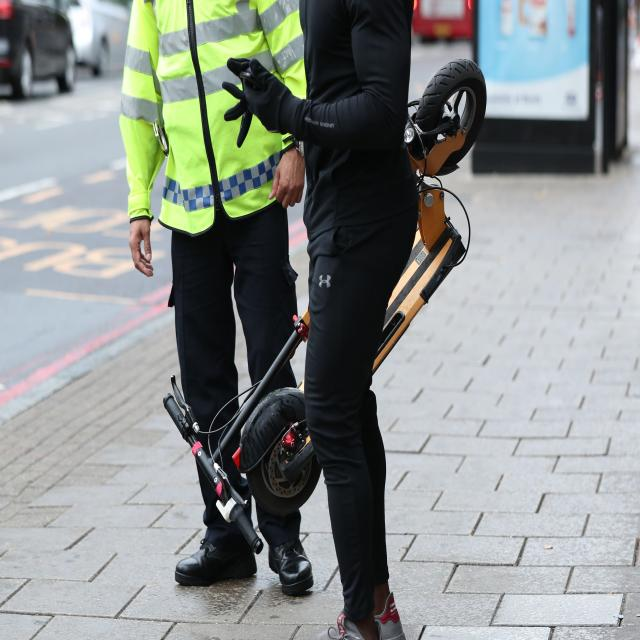police: (88, 0, 309, 605)
